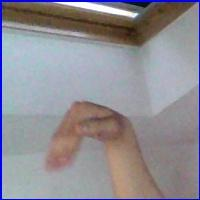del: (34, 92, 149, 180)
